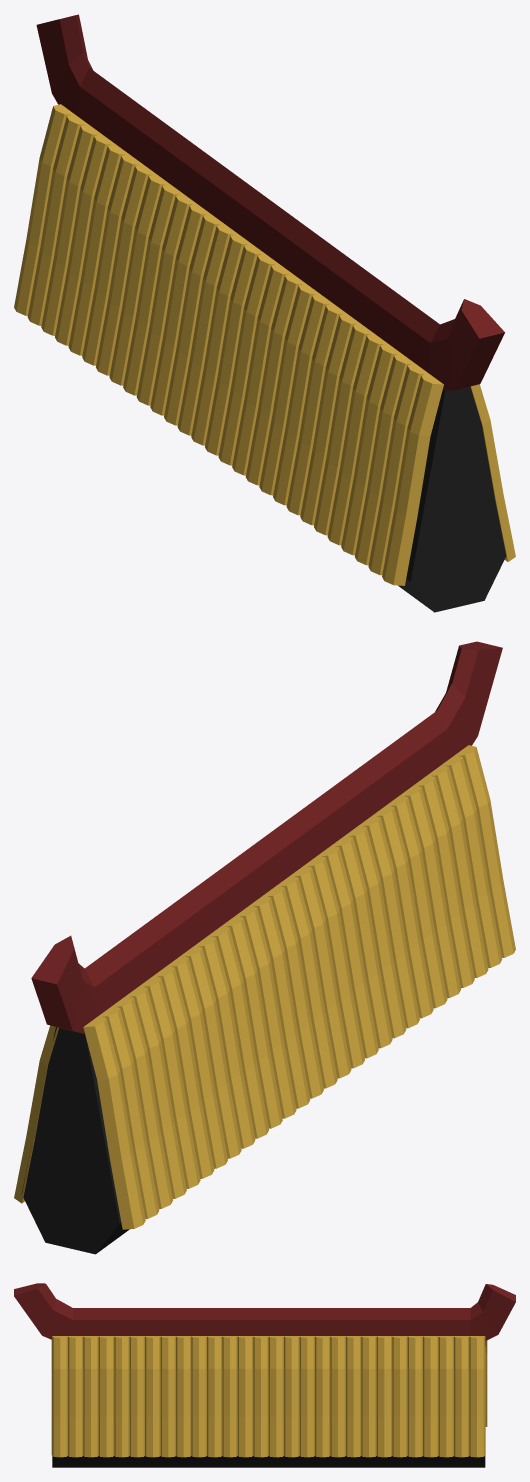
Rendered from Roof3Small.fbx.
The picture shows the model from 3 angles, top to bottom: view 1: azimuth 30°, elevation 25°; view 2: azimuth 150°, elevation 25°; view 3: azimuth 270°, elevation 25°; orthographic projection. The views are drawn at different scales.
Parts seen in each view (by area): view 1: Plane.000, Plane.001, Cube, Plane.002; view 2: Plane.000, Plane.001, Cube, Plane.002; view 3: Plane.002, Plane.001, Cube, Plane.000.
Part boxes in pixels (x1,y1,x2,y2): Plane.000: (14,104,443,585); Plane.001: (36,14,504,390); Cube: (398,386,506,612); Plane.002: (470,384,515,561); Plane.000: (83,745,515,1229); Plane.001: (31,641,502,1033); Cube: (21,1027,129,1254); Plane.002: (14,1025,58,1203); Plane.002: (51,1336,485,1457); Plane.001: (14,1283,515,1340); Cube: (52,1340,485,1467); Plane.000: (485,1340,487,1426).
Size of the model in its own units: 55.51 by 130 by 334.
